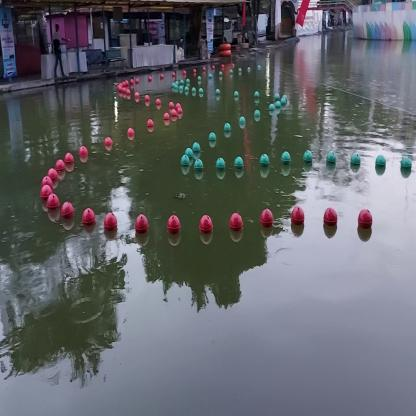green_buoy: (193, 138, 203, 160), (302, 149, 314, 167), (326, 150, 336, 171), (350, 153, 363, 169), (216, 158, 226, 178), (258, 154, 270, 170), (184, 148, 194, 166), (233, 156, 244, 171), (400, 156, 410, 172), (282, 152, 292, 167), (376, 157, 386, 171), (194, 162, 204, 176), (239, 115, 247, 132), (182, 155, 190, 171), (209, 131, 216, 147), (281, 92, 287, 106), (254, 110, 261, 121), (225, 120, 230, 135), (234, 89, 239, 101), (276, 99, 281, 111), (281, 98, 286, 109), (255, 89, 259, 102), (270, 103, 274, 116), (216, 87, 220, 96), (276, 93, 280, 102)
red_buoy: (166, 212, 184, 243), (60, 200, 75, 230), (291, 203, 305, 235), (229, 213, 243, 244), (260, 208, 274, 238), (358, 209, 372, 235), (324, 208, 337, 235), (46, 196, 61, 218), (135, 216, 149, 239), (82, 206, 95, 230), (200, 214, 213, 238), (104, 214, 118, 234), (41, 188, 53, 210), (79, 143, 90, 164), (47, 166, 57, 186), (57, 160, 66, 181), (126, 126, 135, 142), (42, 178, 51, 194), (66, 154, 74, 171), (105, 137, 113, 152), (147, 118, 154, 134), (156, 96, 163, 109), (164, 112, 171, 123), (119, 83, 124, 96), (172, 110, 177, 123), (134, 92, 140, 102), (125, 88, 130, 99), (176, 101, 182, 110), (176, 109, 184, 115), (169, 102, 174, 111), (146, 96, 150, 107)
